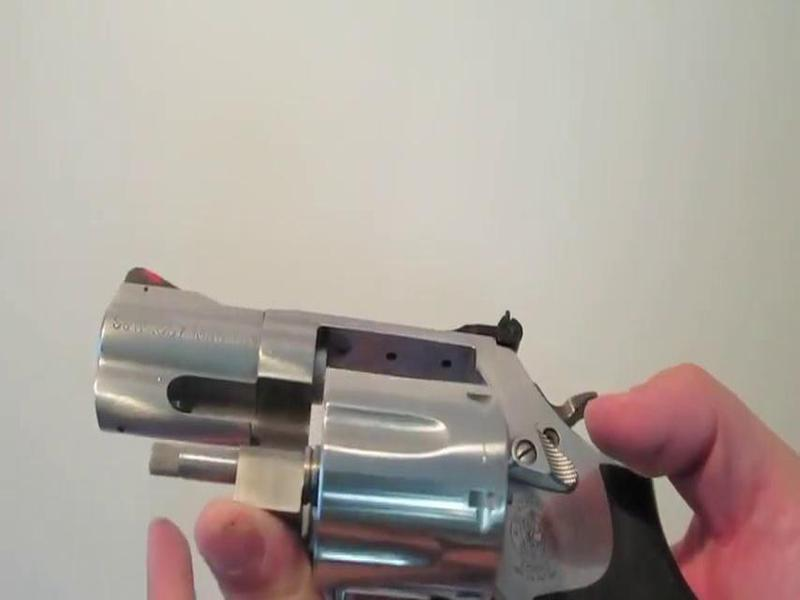Revolver: (61, 236, 693, 600)
